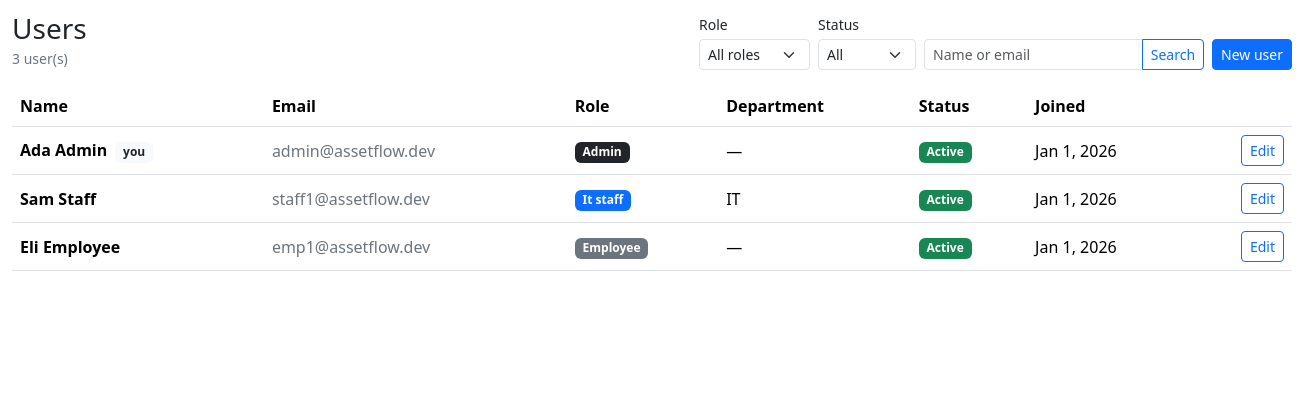
Test: UsersPage › edit sends only changed fields and surfaces API warnings; own role and status are locked
// Own row: role select and active switch disabled.
Click the button "Edit" in the row of "Ada Admin": (1262, 150) [1241,135,1284,166]
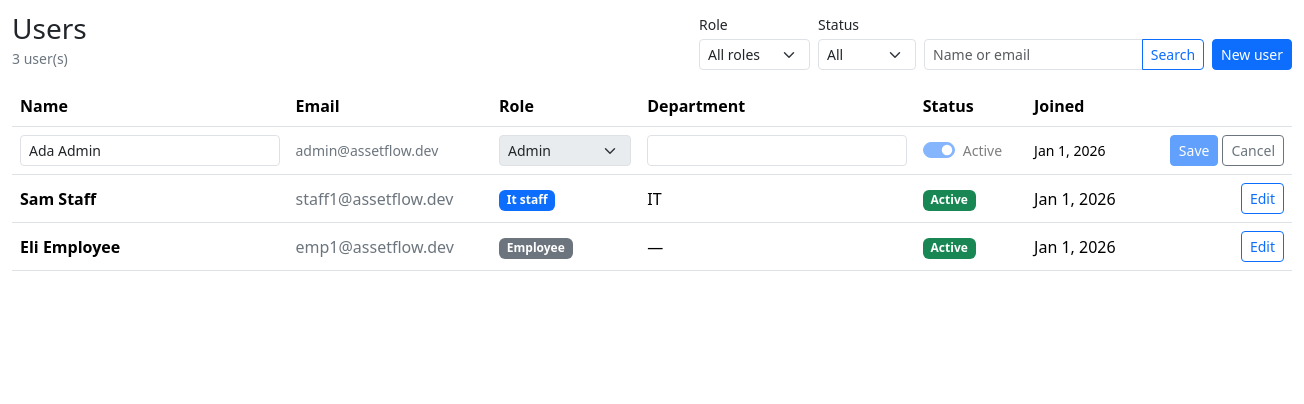
Expected: the dropdown named "Role" is disabled, [499,135,631,166]
Expected: the checkbox labelled "Active" is disabled, [923,142,955,158]
Click the button "Cancel": (1253, 150) [1222,135,1284,166]
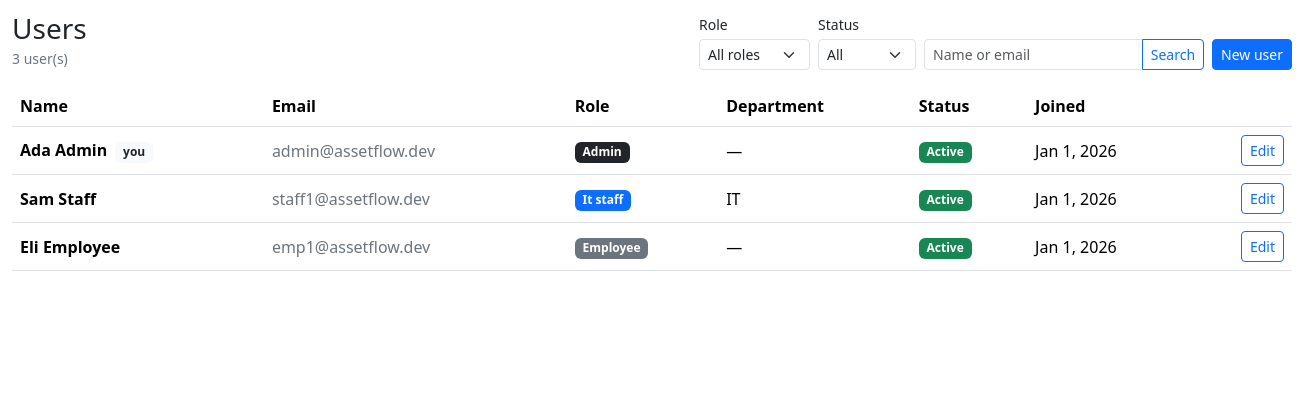
// Sam: change role → warning shown after save.
Click the button "Edit" in the row of "Sam Staff": (1262, 198) [1241,183,1284,214]
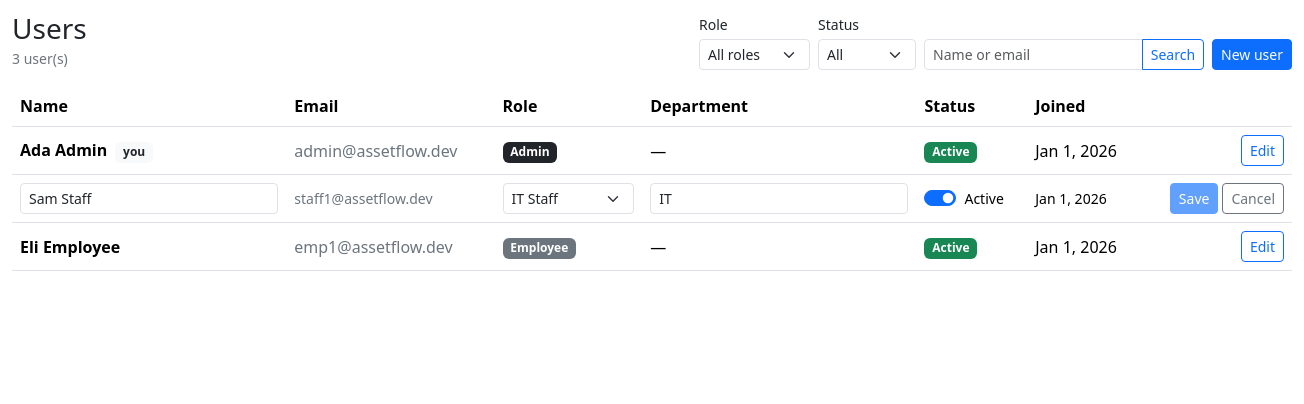
Select "Employee" in the dropdown named "Role": (568, 198) [502,183,634,214]
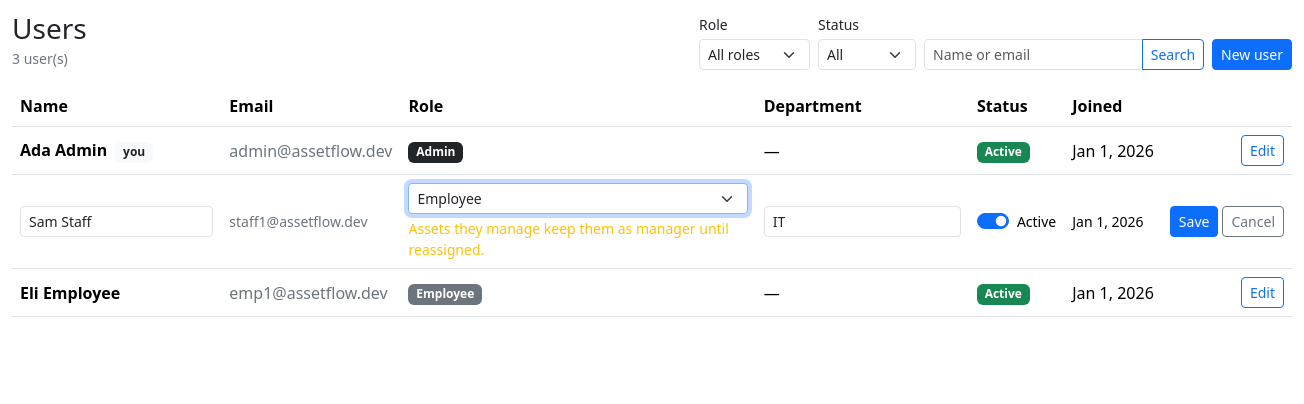
Expected: the text "Assets they manage keep them as manager until reassigned." is shown, [408,218,748,260]
Click the button "Save": (1194, 222) [1170,206,1218,237]
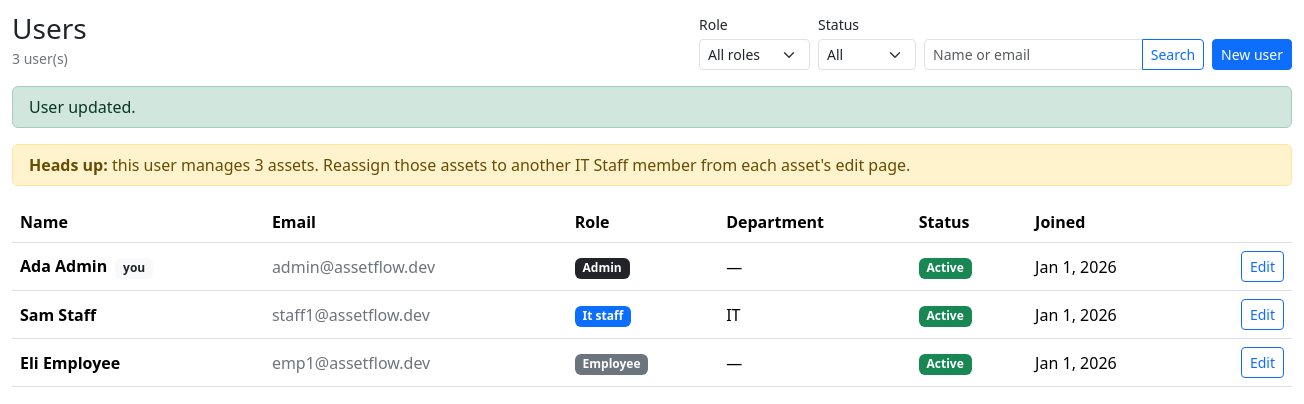
Expected: the element that starts with "Heads up:" shows "manages 3 assets", [181,154,314,176]
